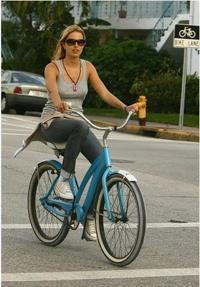person: (42, 24, 141, 244)
